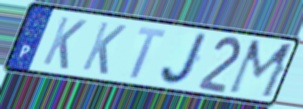2: (196, 35, 243, 95)
J: (159, 31, 211, 87)
K: (39, 14, 89, 72), (79, 20, 129, 77)
M: (224, 38, 298, 102)
T: (127, 25, 169, 81)
